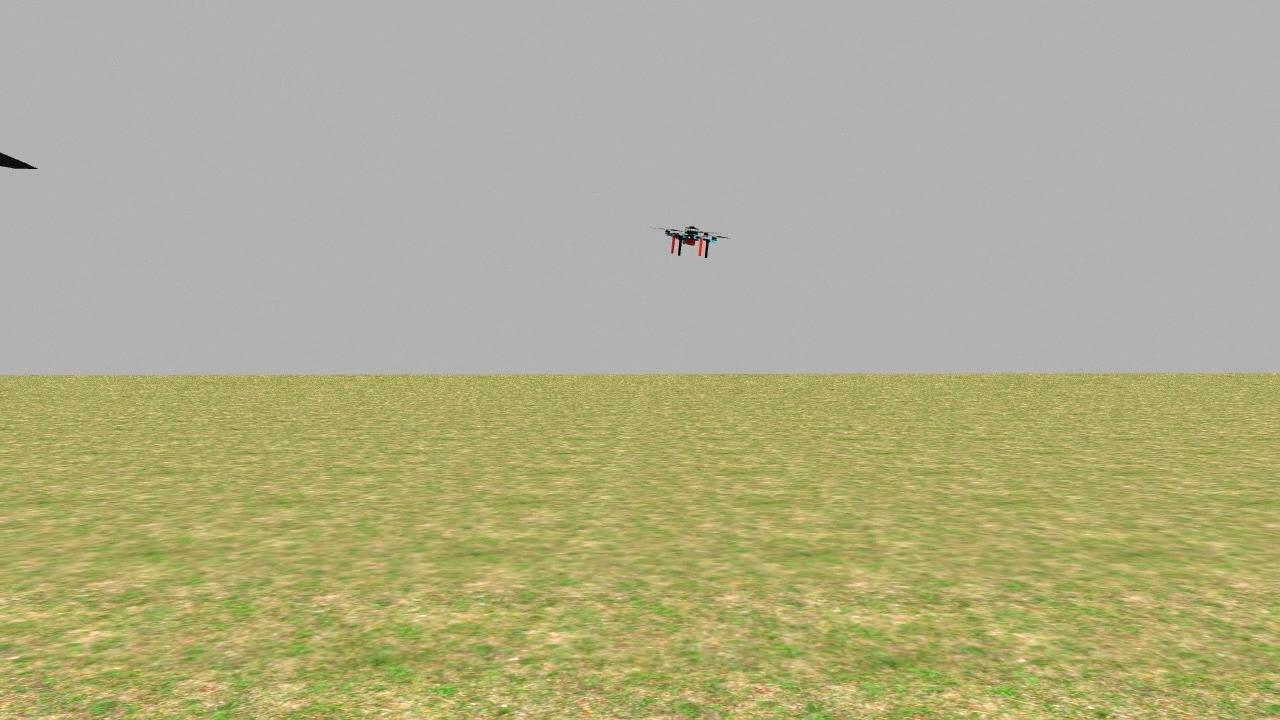UAV: (647, 216, 730, 266)
